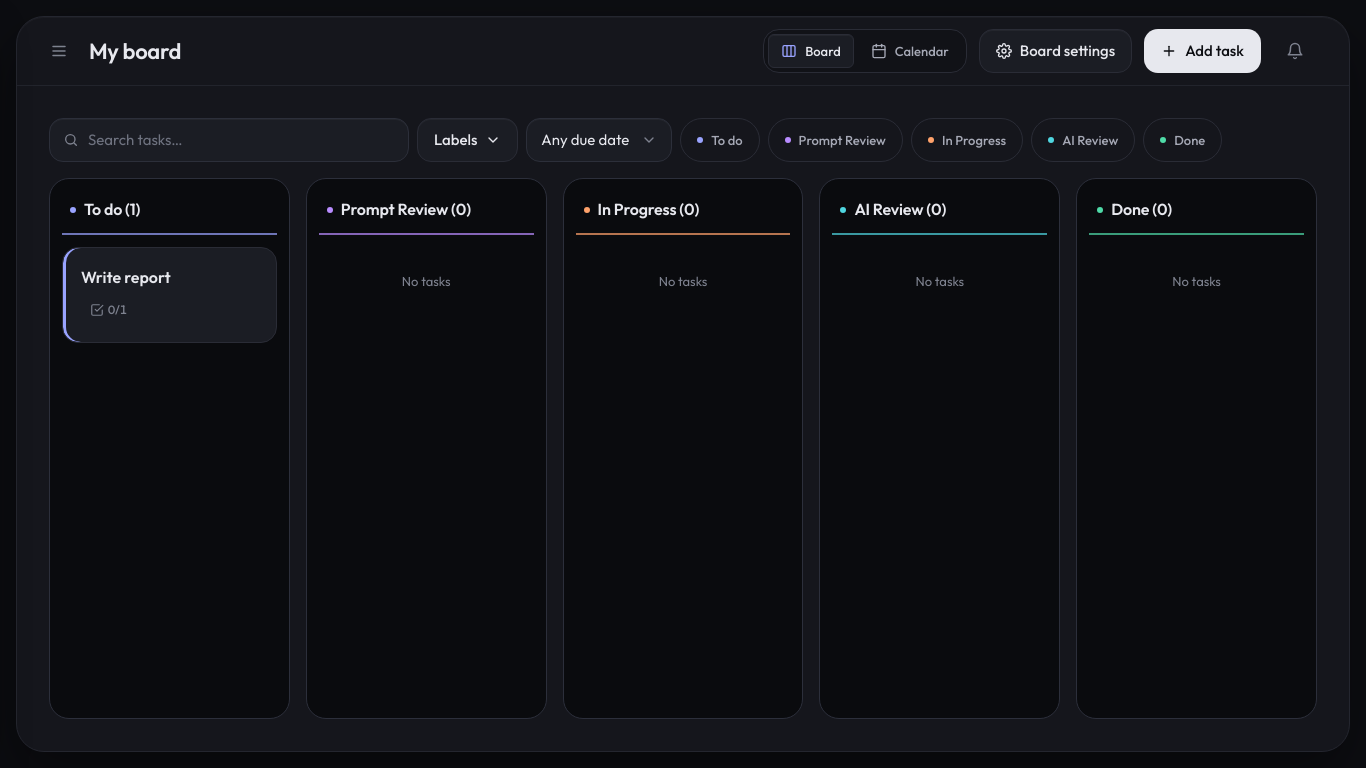
App › ticking an item on a card updates its count
This screenshot has width=1366, height=768.
Click the button named "Checklist, 0 of 1 done": (108, 310) [81,296,136,324]
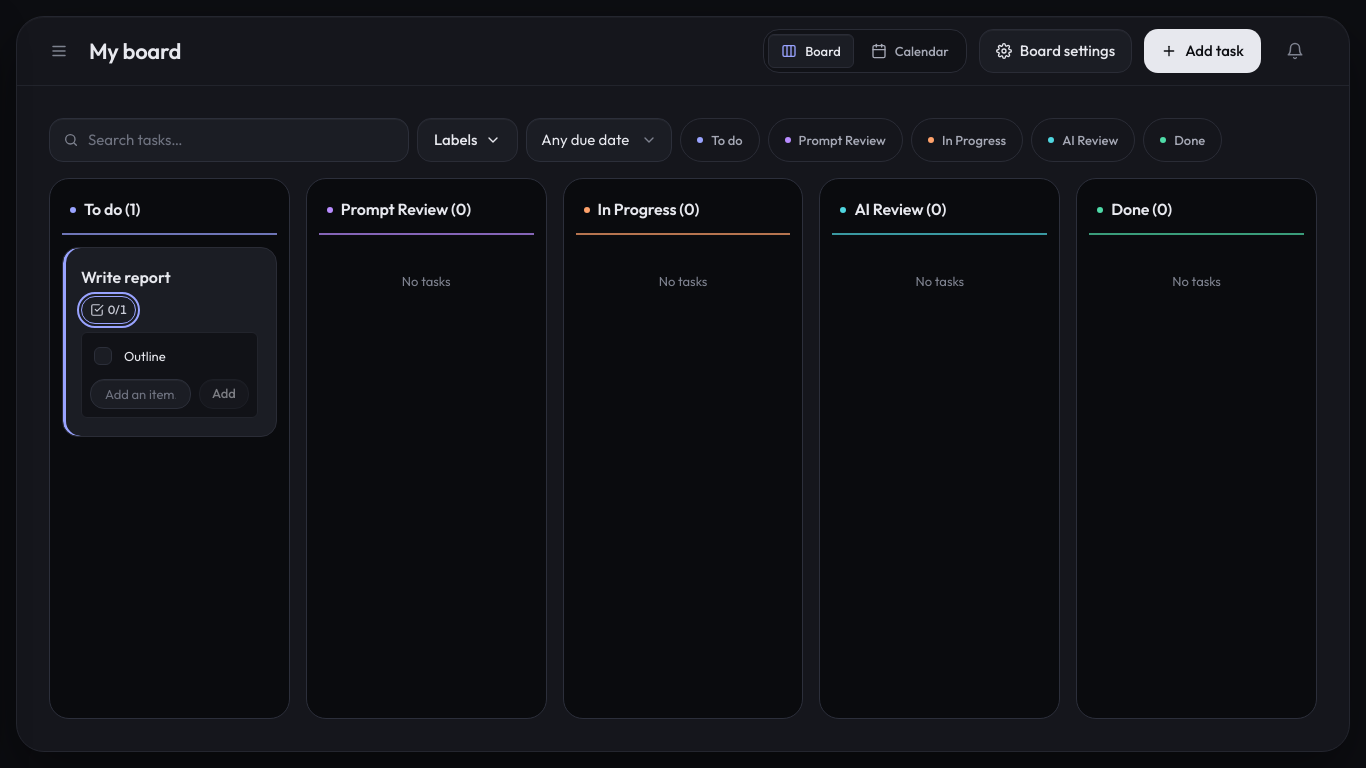
Click the checkbox labelled "Outline": (103, 356) [94,347,112,365]
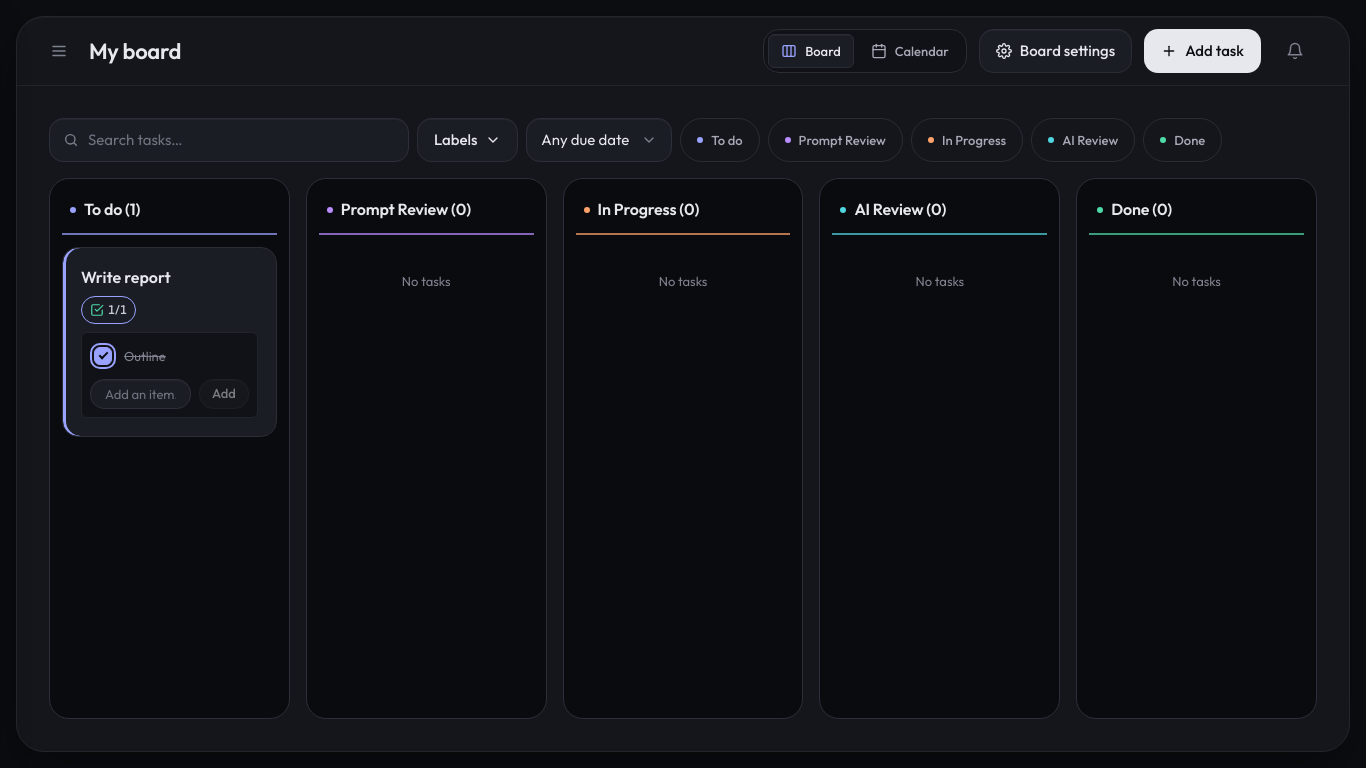
Now the button named "Checklist, 1 of 1 done" is shown, box [81,296,136,324]
